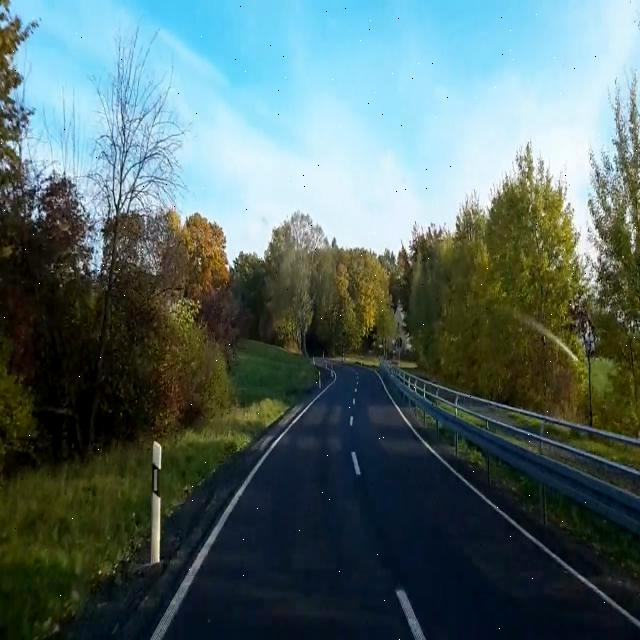lane: (376, 373, 639, 629), (150, 388, 327, 639), (395, 586, 428, 639), (352, 451, 362, 477)
road: (165, 367, 640, 639)
